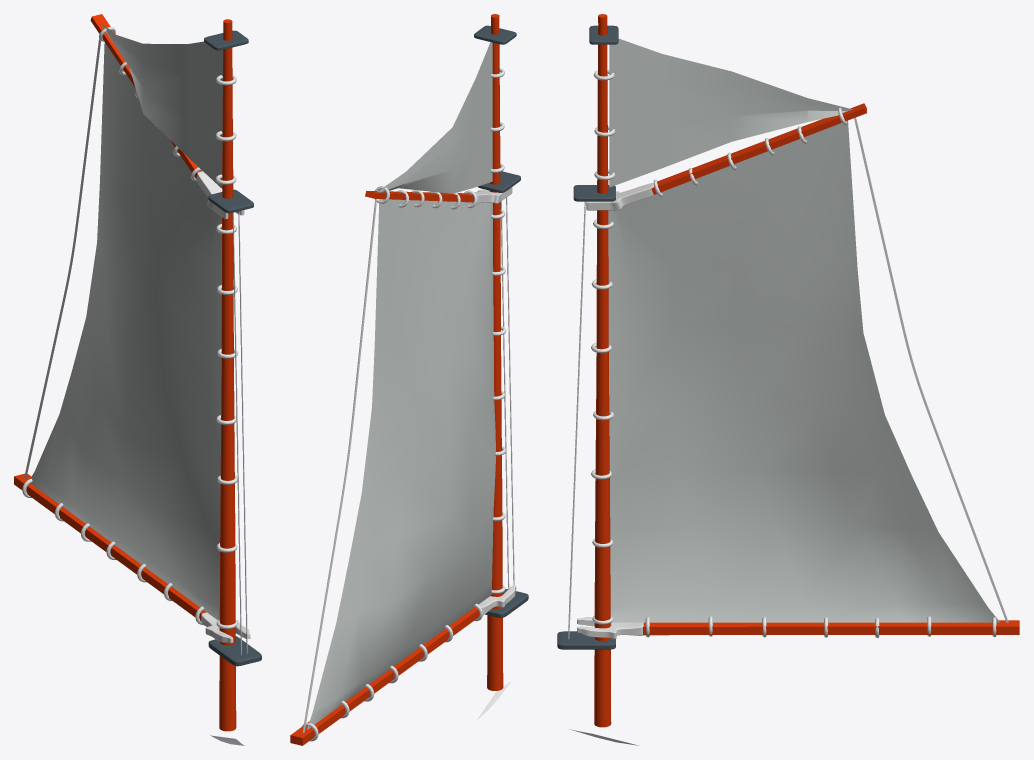
3 renders of one model, left to right at view 1: azimuth 30°, elevation 25°; view 2: azimuth 150°, elevation 25°; view 3: azimuth 270°, elevation 25°, orthographic. The views are drawn at different scales.
Visible parts, largest first — view 1: line.005, line.004, cylinder.005, box.013, line.008, box.017, line, line.003, box.004, box.011, box.014, box.016 (+1 smaller); view 2: line.005, line.004, cylinder.005, box.013, line.008, box.004, line.003, line, box.010, box.017, box.011, box.014; view 3: line.005, line.004, cylinder.005, box.013, box.004, line.008, box.014, line, box.016, box.017.
Boxes of the visible parts, x1,y1,x2,y2 form: line.005: [30, 42, 221, 620]; line.004: [102, 24, 222, 188]; cylinder.005: [219, 19, 236, 731]; box.013: [14, 473, 206, 621]; line.008: [24, 39, 100, 479]; box.017: [208, 636, 261, 666]; line: [238, 211, 247, 653]; line.003: [232, 212, 241, 655]; box.004: [90, 14, 202, 178]; box.011: [208, 189, 253, 213]; box.014: [201, 612, 250, 643]; box.016: [196, 171, 244, 219]; line.005: [307, 199, 496, 729]; line.004: [377, 42, 492, 193]; cylinder.005: [487, 14, 503, 690]; box.013: [290, 607, 479, 745]; line.008: [302, 199, 376, 733]; box.004: [365, 191, 473, 202]; line.003: [506, 197, 514, 584]; line: [500, 201, 509, 588]; box.010: [474, 25, 516, 44]; box.017: [485, 589, 528, 617]; box.011: [478, 171, 520, 192]; box.014: [478, 585, 516, 615]; line.005: [608, 120, 999, 622]; line.004: [609, 38, 852, 187]; cylinder.005: [594, 14, 611, 727]; box.013: [643, 620, 1019, 635]; box.004: [651, 103, 866, 194]; line.008: [854, 117, 1008, 622]; box.014: [577, 617, 643, 638]; line: [568, 201, 585, 639]; box.016: [586, 183, 653, 210]; box.017: [557, 631, 615, 649].
Size of the model in its own units: 35.64 by 592 by 340.
